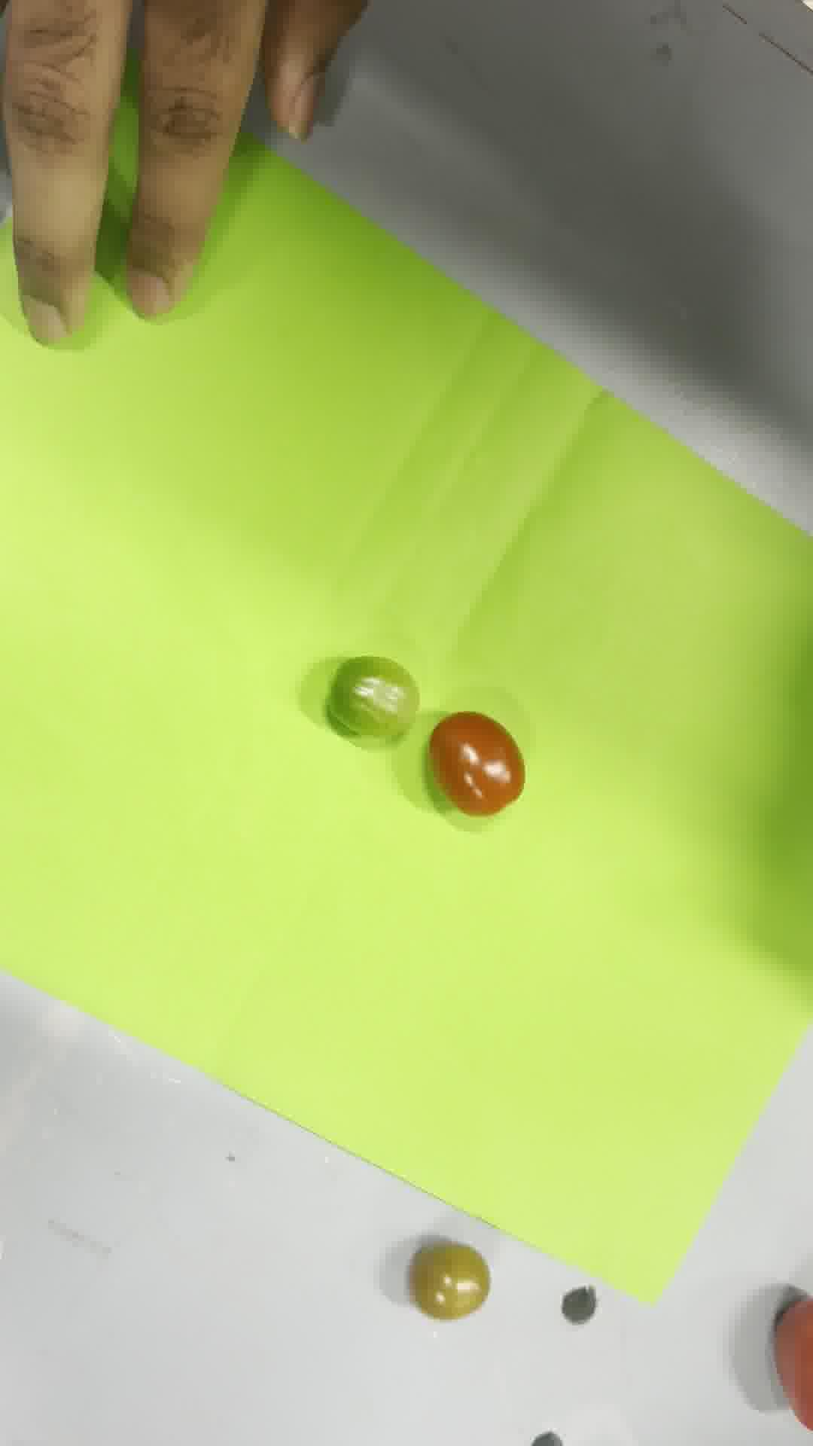green_cherry_tomato: (328, 657, 419, 739)
red_cherry_tomato: (428, 712, 525, 816)
yellow_cherry_tomato: (409, 1241, 490, 1321)
